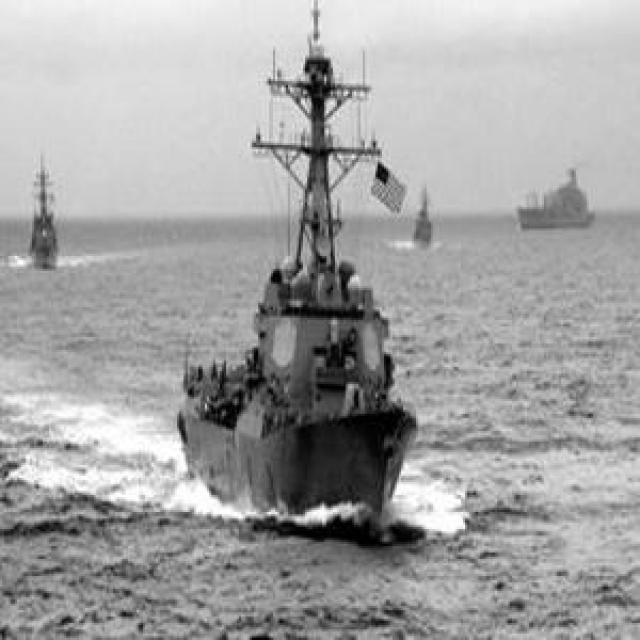navalvessels: (171, 25, 426, 526), (512, 163, 596, 233), (26, 153, 72, 266), (410, 180, 441, 248)
